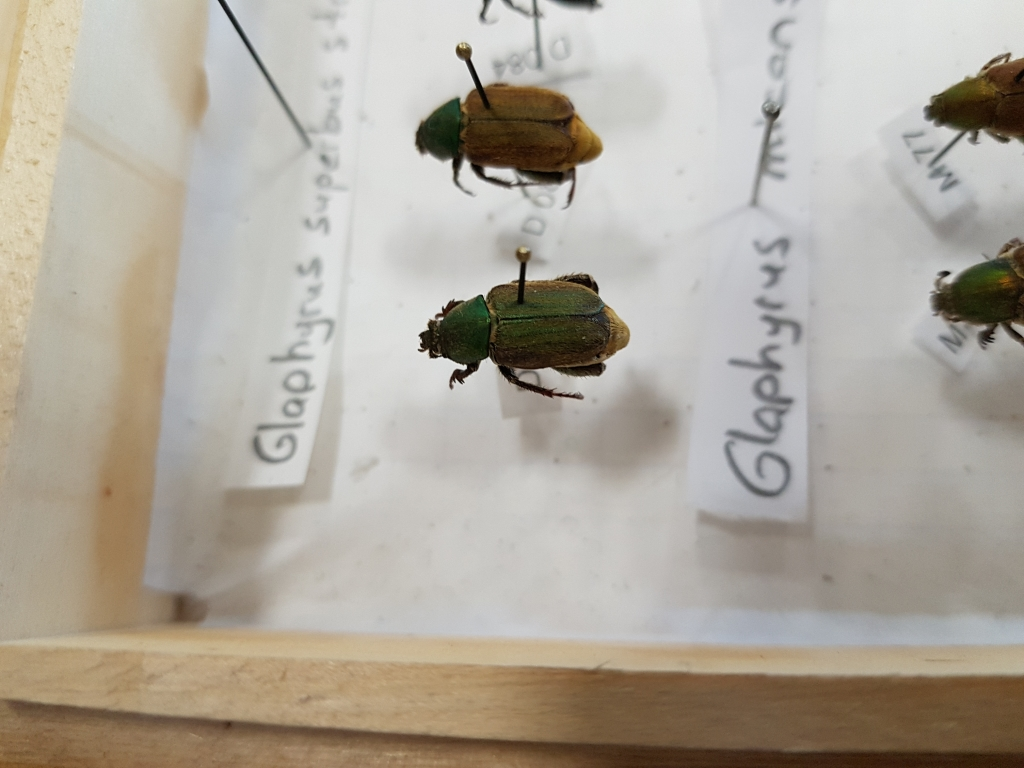Glaphyrus_superbus: (406, 259, 644, 417)
